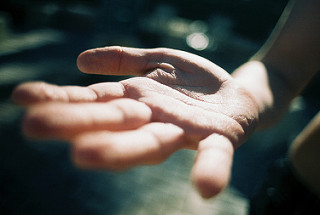palm: (132, 48, 254, 148)
